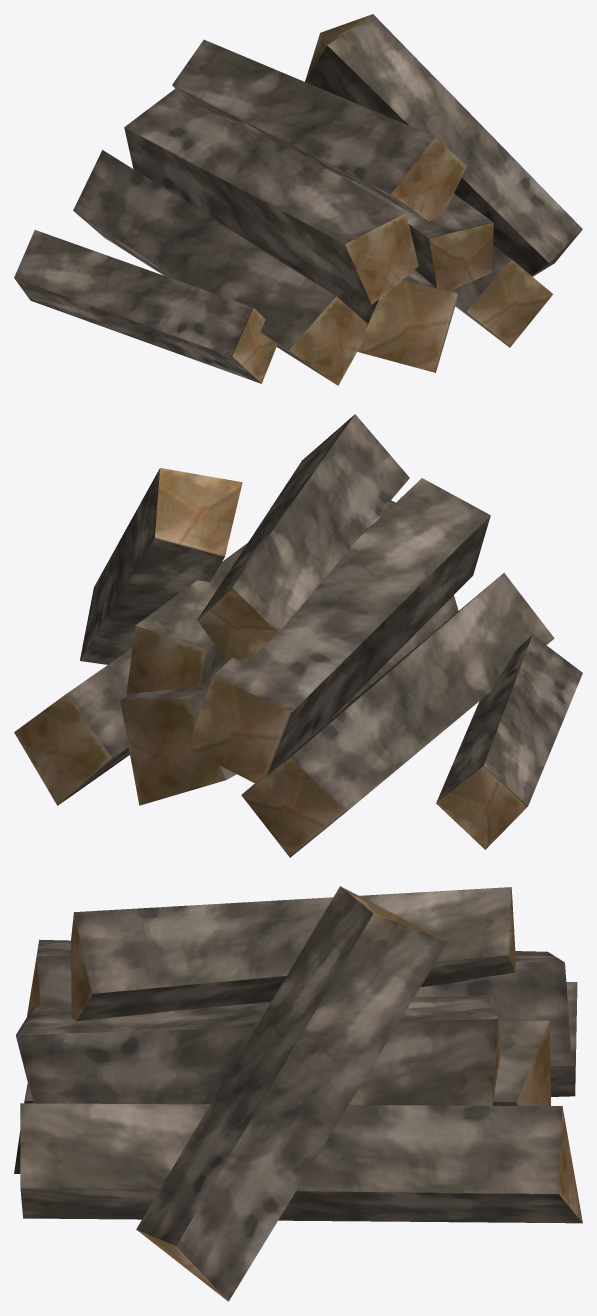
The model's file is handan_field_a_r09.fbx.
3 views of the same model, one above another, from view 1: azimuth 30°, elevation 25°; view 2: azimuth 150°, elevation 25°; view 3: azimuth 270°, elevation 25° (orthographic). The views are drawn at different scales.
Parts seen in each view (by area): view 1: handan_field_a_r09; view 2: handan_field_a_r09; view 3: handan_field_a_r09.
Part boxes in pixels (left/top/right/bottom): handan_field_a_r09: left=14, top=14, right=582, bottom=385; handan_field_a_r09: left=14, top=414, right=582, bottom=857; handan_field_a_r09: left=14, top=886, right=582, bottom=1301.
Bounding box in the file's own units: 209 × 103 × 168.
